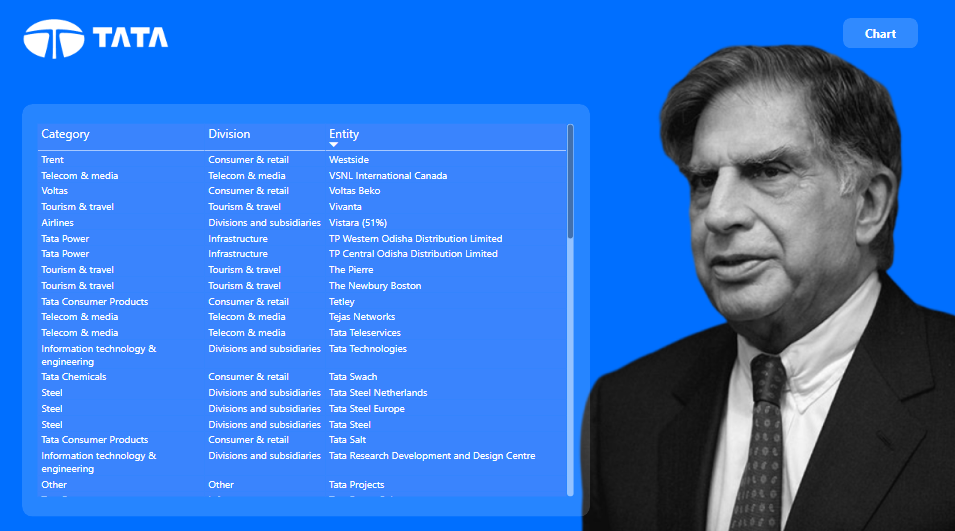

Layout of this report page (visuals, bound fields, positions):
{"tool":"powerbi","page":{"name":"Tata Groups-table","canvas":[1280,720],"ordinal":6},"visuals":[{"type":"shape","box":[32,143.2,757.5,550.4],"z":0},{"type":"tableEx","fields":{"Values":["tata_group_entities-all.Category","tata_group_entities-all.Division","tata_group_entities-all.Entity"]},"box":[47.3,164,725.6,507.3],"z":1000},{"type":"actionButton","box":[1127.3,27.8,100.1,40.3],"z":2000}]}

Visuals, with their boxes in screenshot pixels (x1, y1, x2, y2), scaled from the page's 1280x720 canvas onto the 955x531 screenshot:
shape: region(24, 106, 589, 512)
tableEx - tata_group_entities-all.Category x tata_group_entities-all.Division: region(35, 121, 577, 495)
actionButton: region(841, 21, 916, 50)
